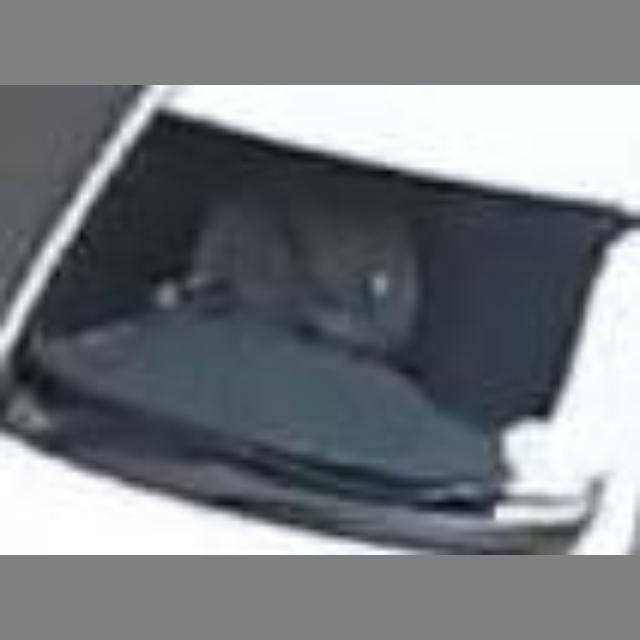pakai: (175, 170, 435, 393)
